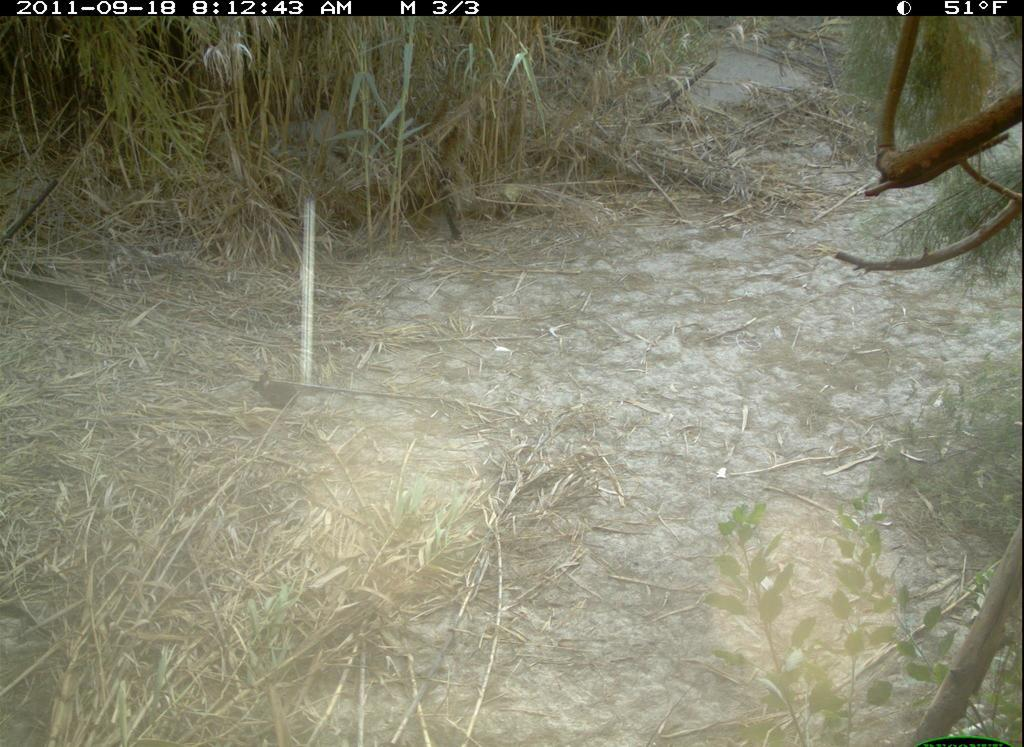rabbit: (247, 369, 303, 418)
